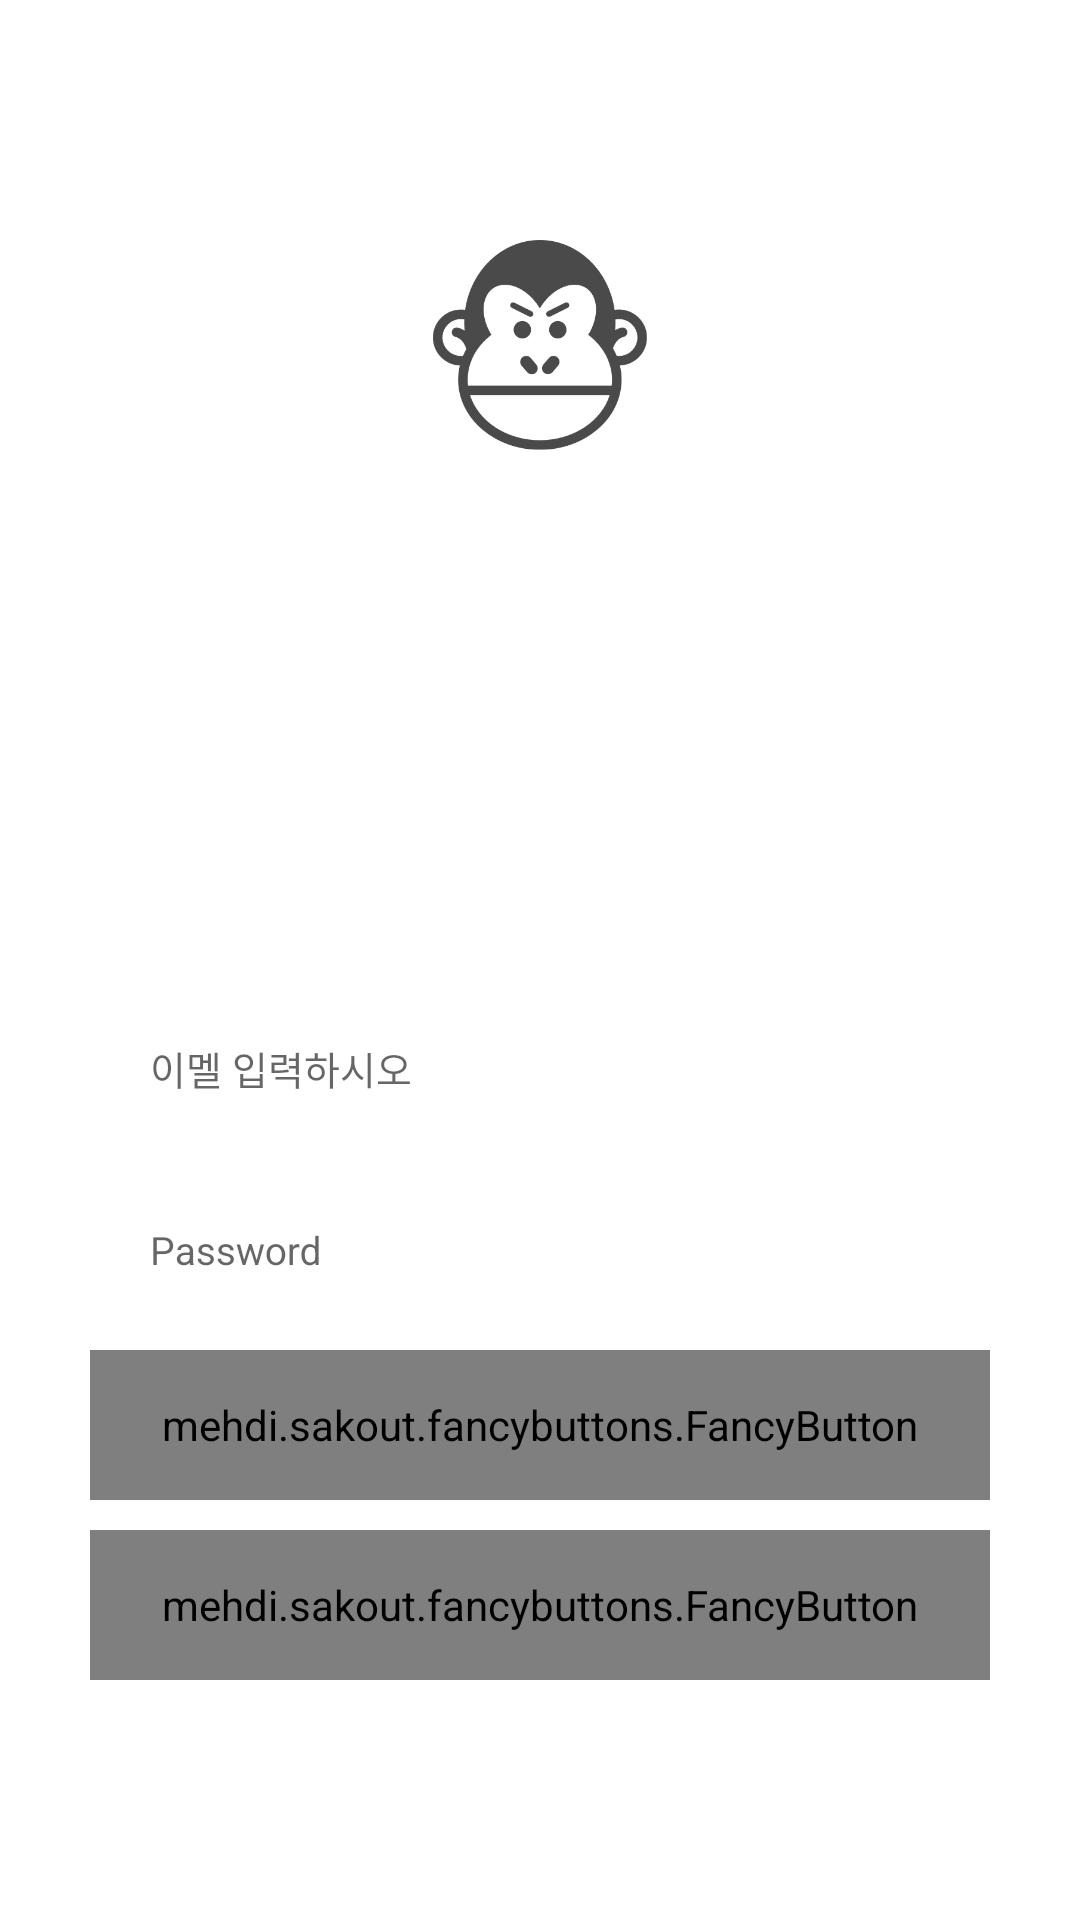

Named icons in this screenshot (1080×1920) and their bounding boxes, box(x1, y1, x2, y2):
monkey: box(433, 240, 647, 450)
